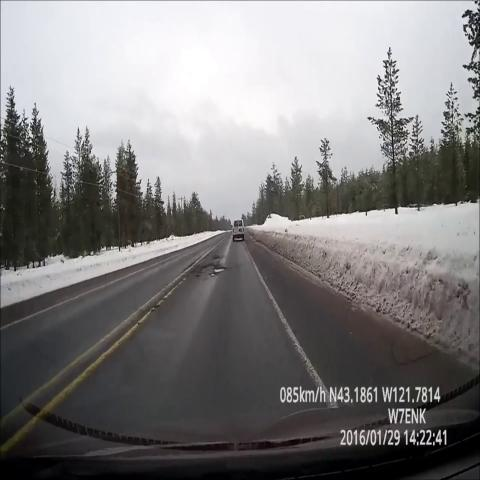pothole: (188, 252, 234, 287)
